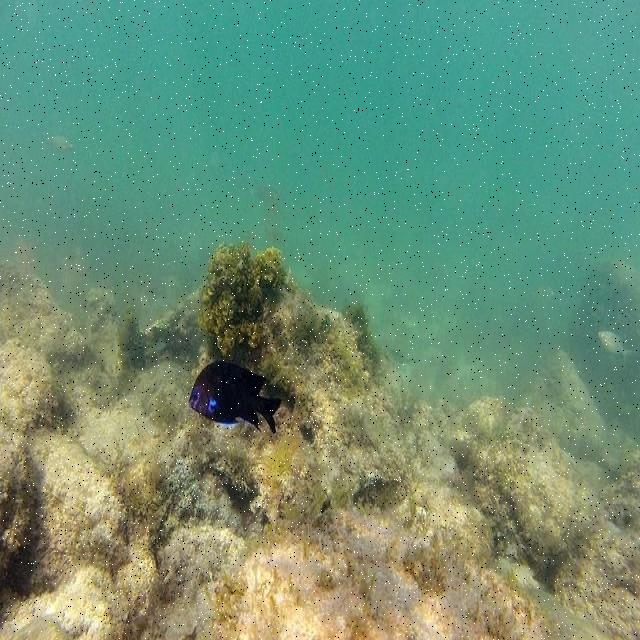aquatic plants: (198, 244, 284, 359), (127, 311, 198, 367)
fish: (189, 362, 282, 430), (597, 328, 632, 361)
sea-floor: (0, 259, 639, 639)
